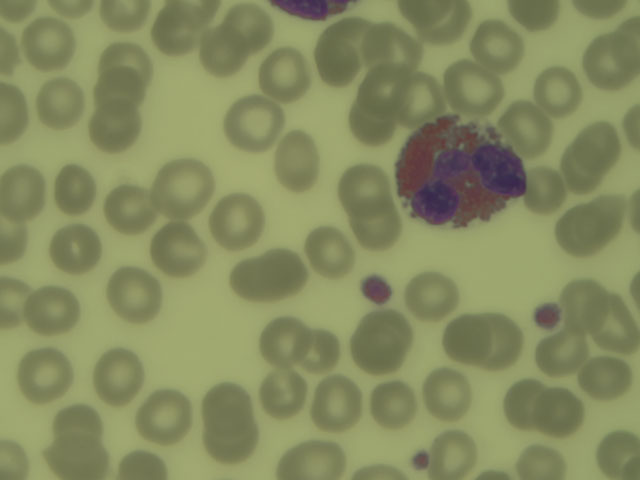Platelets: (364, 275, 393, 299), (534, 305, 561, 326), (413, 450, 431, 470)
RBC: (354, 308, 411, 370), (230, 253, 303, 296), (158, 158, 213, 213), (106, 269, 163, 322), (446, 59, 502, 111), (139, 390, 194, 441), (274, 440, 343, 480), (17, 349, 70, 401), (92, 348, 143, 402), (592, 294, 640, 350), (480, 309, 525, 368), (211, 193, 263, 243), (225, 98, 280, 145), (261, 316, 310, 367), (46, 442, 111, 480), (301, 227, 354, 273), (500, 102, 550, 150), (203, 417, 257, 459), (476, 22, 524, 69), (534, 65, 581, 113), (337, 164, 386, 210), (259, 51, 309, 96), (315, 376, 360, 426), (1, 164, 44, 216), (89, 105, 143, 146), (55, 225, 104, 270), (151, 229, 200, 274), (424, 367, 467, 418), (278, 131, 320, 183), (598, 428, 640, 479), (562, 282, 605, 331), (22, 21, 72, 63), (298, 327, 340, 376), (38, 80, 82, 126), (501, 380, 545, 426), (203, 383, 250, 426), (28, 291, 80, 329), (405, 277, 457, 315), (430, 432, 475, 475), (562, 148, 605, 193), (316, 37, 358, 83), (358, 199, 400, 245), (373, 384, 419, 426), (551, 207, 593, 253), (524, 167, 565, 214), (100, 43, 152, 80), (583, 354, 627, 397), (331, 18, 385, 53), (261, 368, 303, 413), (583, 37, 624, 83), (372, 29, 419, 69), (354, 70, 403, 108), (349, 99, 394, 140), (111, 189, 157, 229), (536, 333, 584, 371), (515, 443, 564, 480), (539, 389, 582, 431), (397, 78, 441, 119), (445, 317, 485, 362), (56, 167, 97, 210), (227, 6, 270, 47), (197, 32, 241, 72), (156, 13, 197, 54), (94, 70, 142, 105), (579, 124, 617, 167), (509, 1, 561, 32), (1, 280, 35, 326), (613, 16, 640, 70), (1, 211, 28, 264), (55, 407, 102, 437), (1, 83, 24, 144), (431, 1, 473, 34), (100, 1, 149, 28), (119, 452, 166, 480), (1, 437, 32, 479), (170, 1, 222, 26), (594, 199, 621, 237), (622, 103, 640, 156), (48, 1, 94, 21), (398, 1, 442, 21), (3, 2, 33, 20)
WBC: (397, 121, 530, 221), (273, 1, 361, 18)
